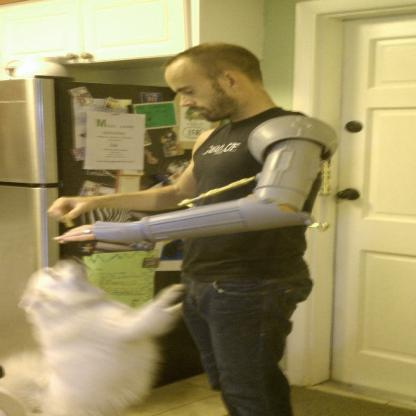door: (328, 16, 415, 404)
knob: (336, 190, 351, 201)
